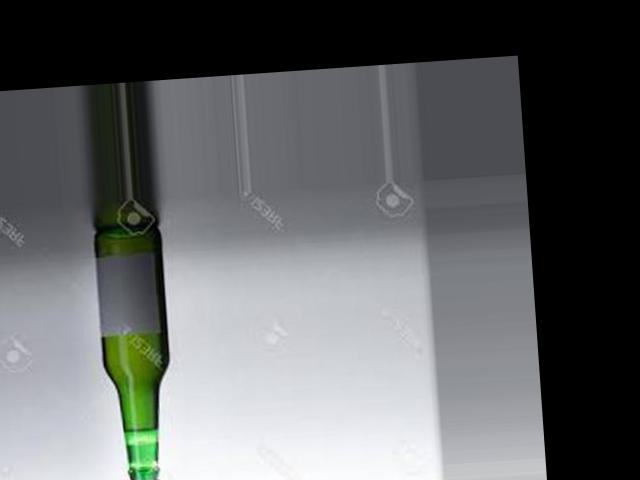beer: (93, 223, 179, 480)
